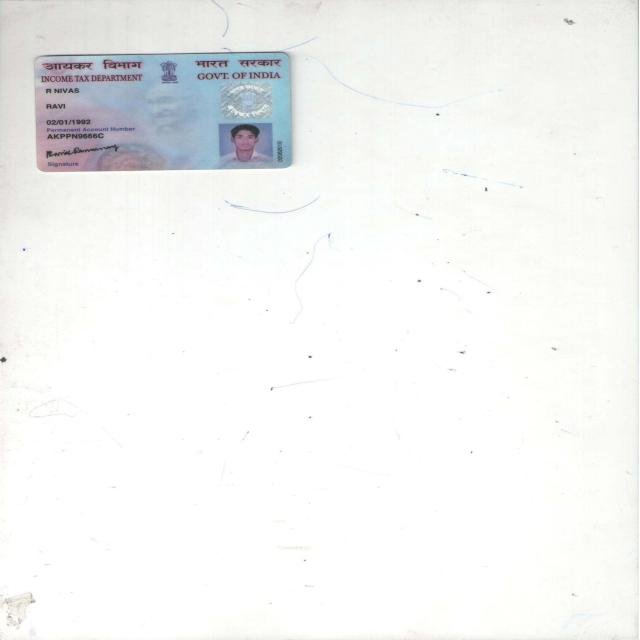pan_card: (34, 51, 290, 174)
